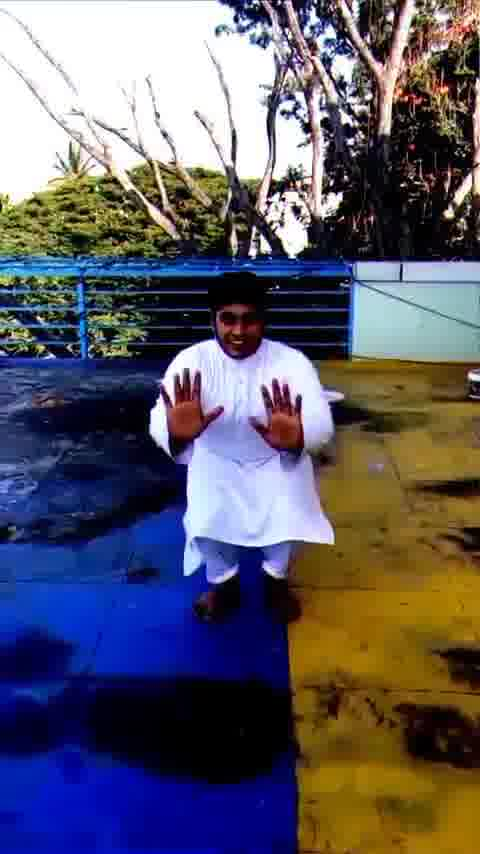duck: (145, 252, 347, 639)
